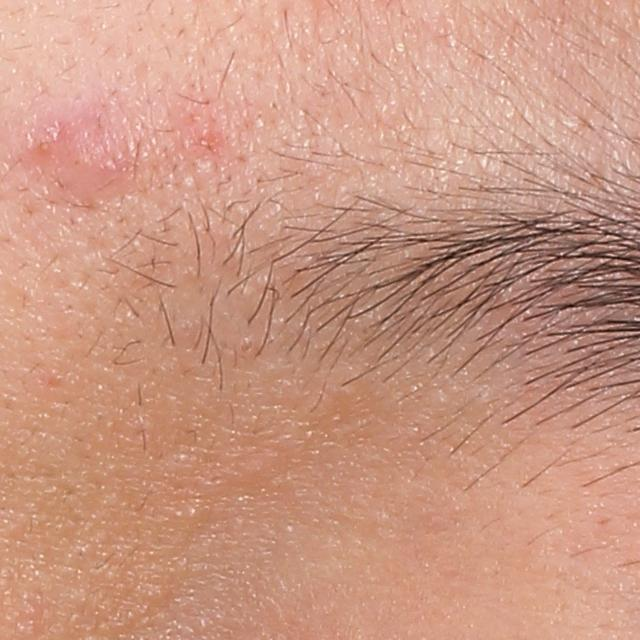papule: (30, 114, 80, 171)
